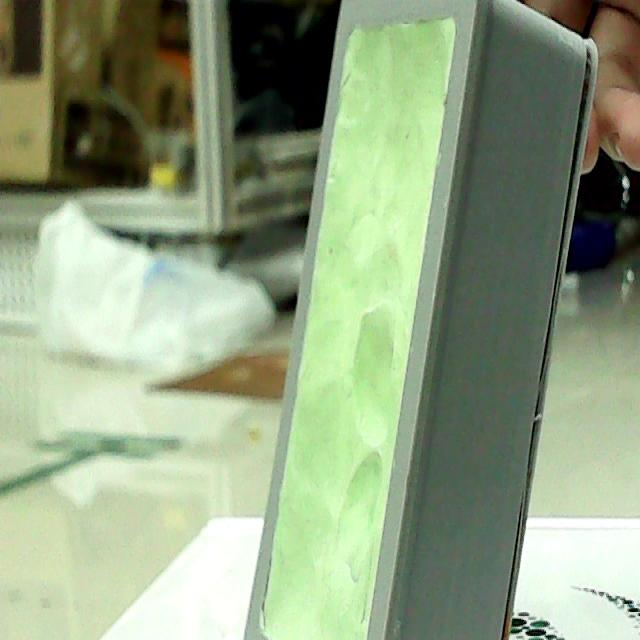block: (226, 0, 608, 640)
